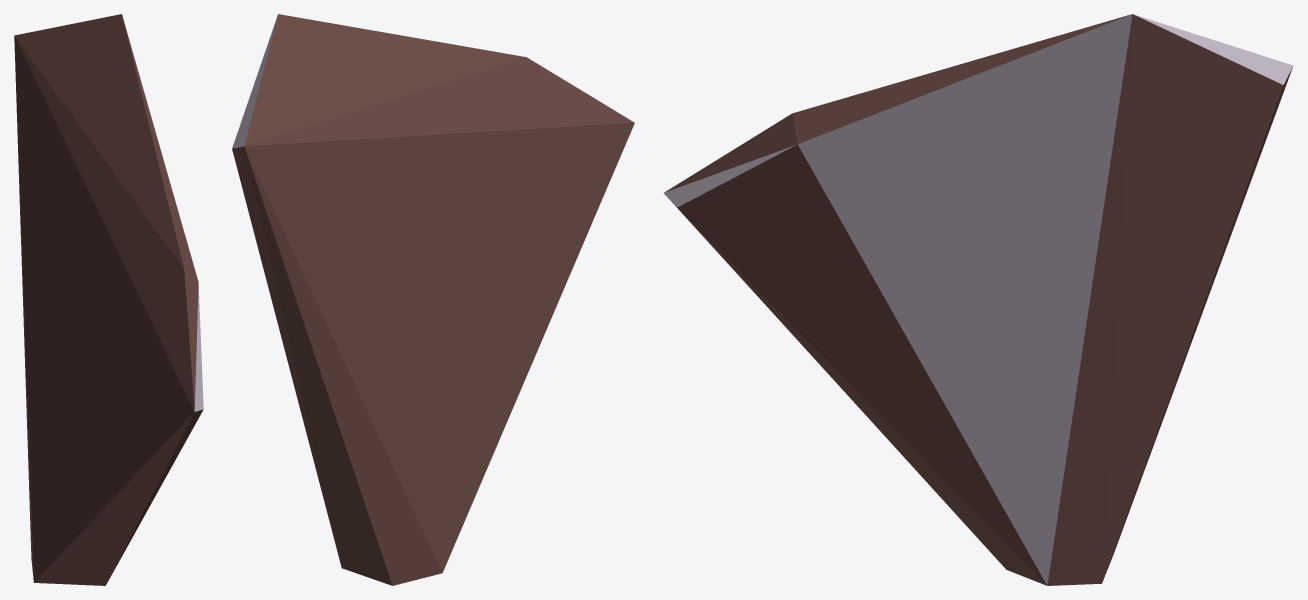
Rendered from Willow_Dead_Snow_5.lod4.glb.
3 views of the same model, side by side, from view 1: azimuth 30°, elevation 25°; view 2: azimuth 150°, elevation 25°; view 3: azimuth 270°, elevation 25° (orthographic). The views are drawn at different scales.
Parts seen in each view (by area): view 1: Willow_Dead_Snow_5; view 2: Willow_Dead_Snow_5; view 3: Willow_Dead_Snow_5.
Boxes of the visible parts, x1,y1,x2,y2 form: Willow_Dead_Snow_5: (14,14,203,585); Willow_Dead_Snow_5: (232,14,634,585); Willow_Dead_Snow_5: (664,14,1293,585).
Size of the model in its own units: 0.5389 by 2.04 by 1.96.
